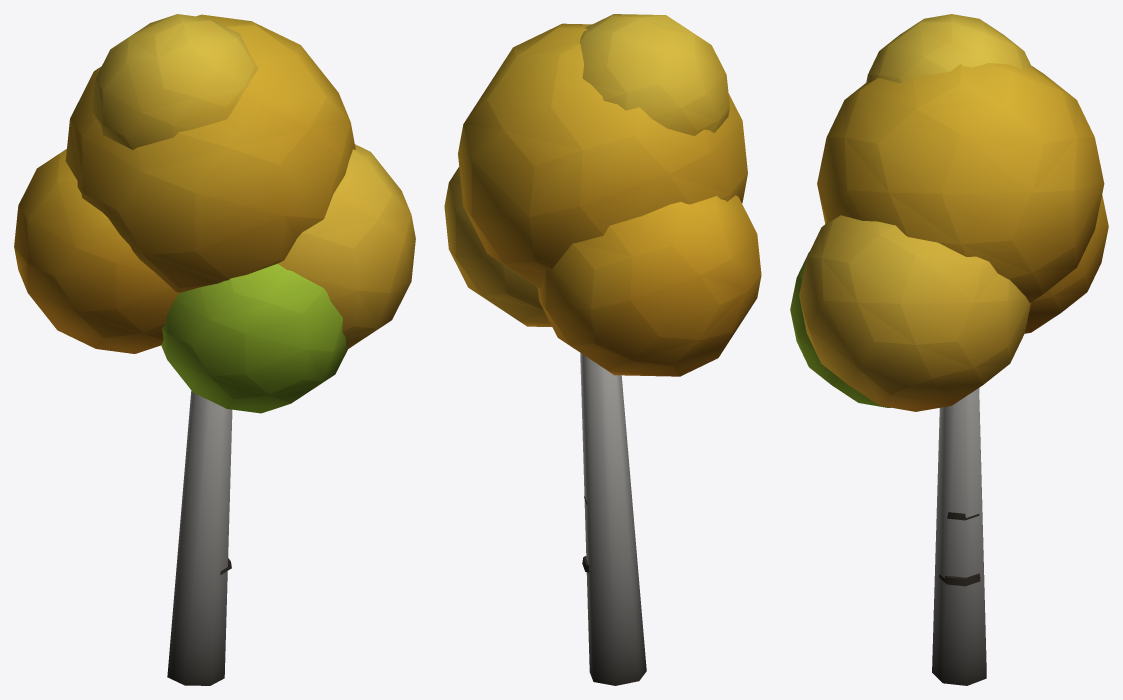
File: tree_birch.glb
3 views of the same model, side by side, from view 1: azimuth 30°, elevation 25°; view 2: azimuth 150°, elevation 25°; view 3: azimuth 270°, elevation 25° (orthographic). The views are drawn at different scales.
Parts seen in each view (by area): view 1: Foliage (×5), Trunk; view 2: Foliage (×4), Trunk; view 3: Foliage (×5), Trunk.
Boxes of the visible parts, x1,y1,x2,y2 form: Foliage (×5): (14, 14, 415, 413); Trunk: (167, 390, 232, 685); Foliage (×4): (444, 14, 761, 376); Trunk: (580, 353, 646, 685); Foliage (×5): (790, 14, 1108, 411); Trunk: (932, 388, 986, 685).
Bounding box in the file's own units: 4.15 × 7.91 × 3.55.
